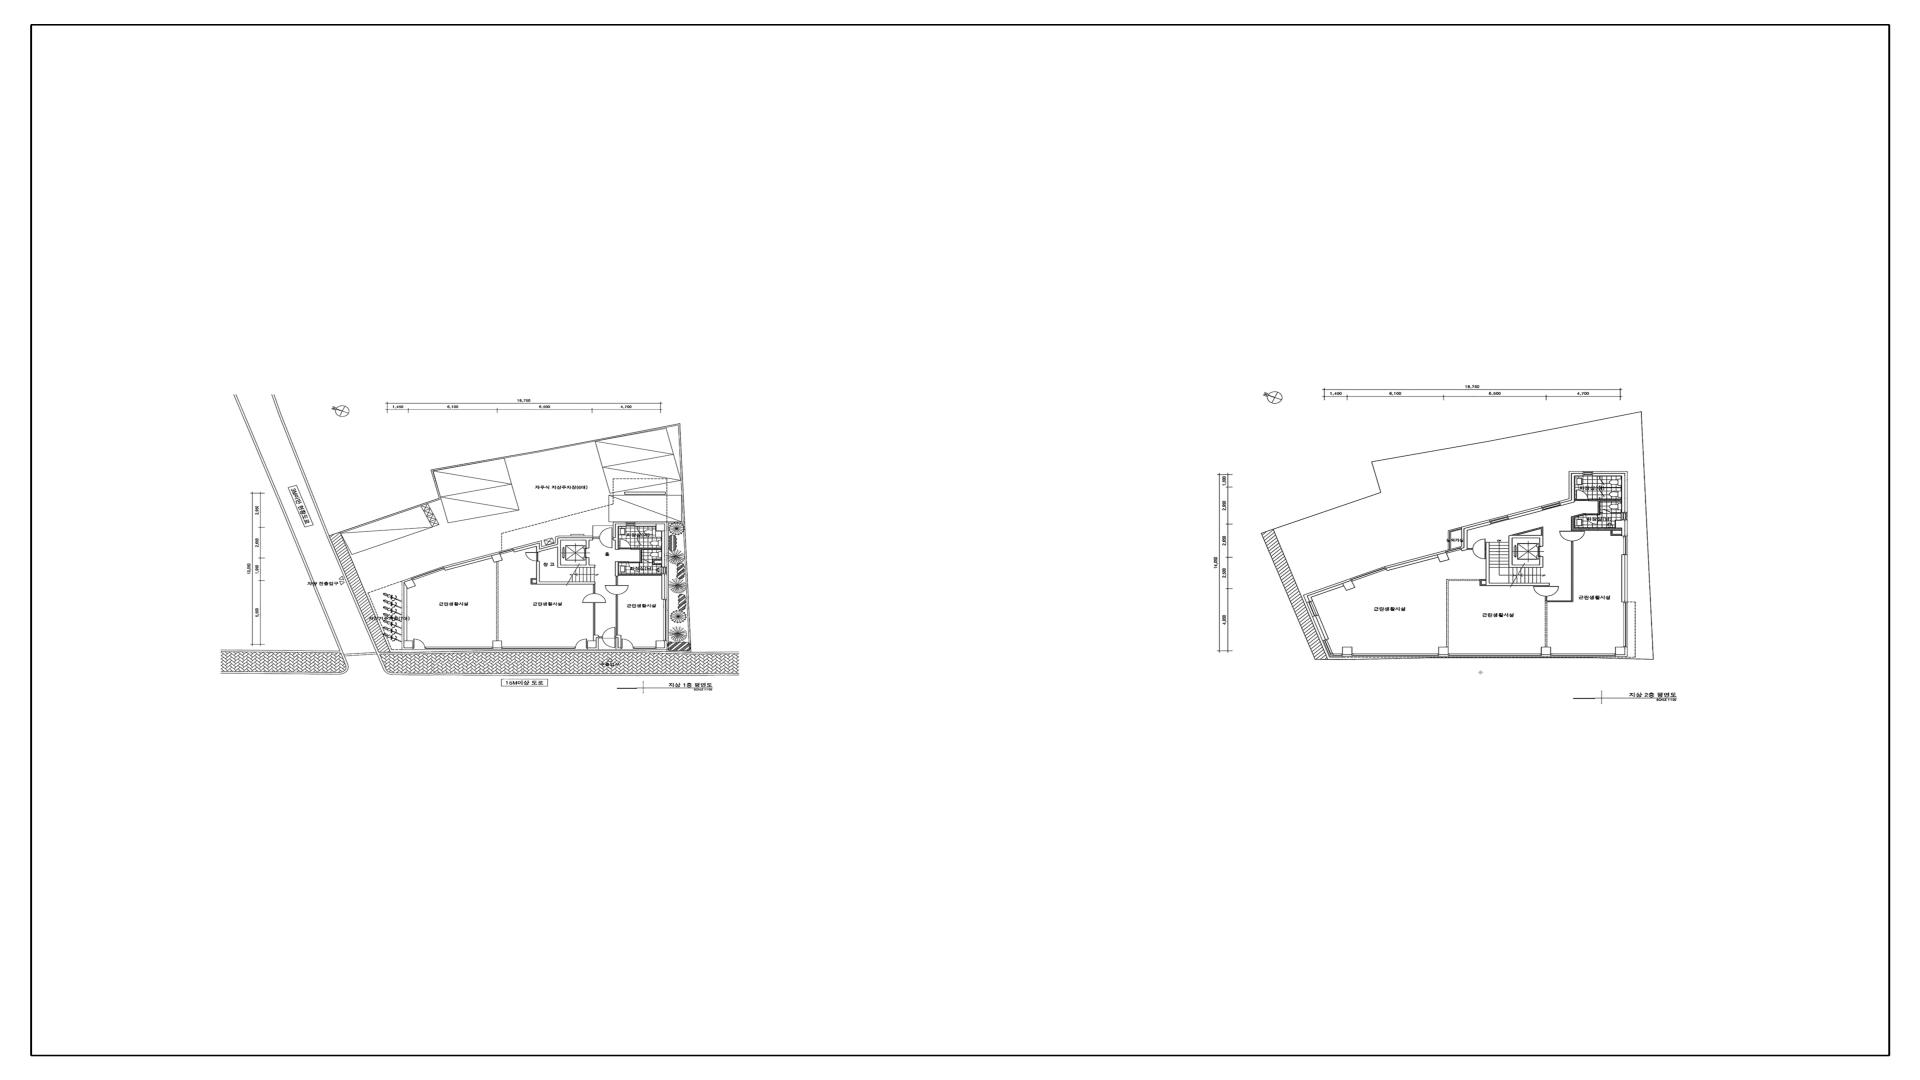door: (593, 527, 613, 548), (1467, 538, 1486, 560), (598, 627, 616, 648), (1534, 585, 1559, 600), (1560, 530, 1585, 542), (605, 584, 629, 595), (582, 593, 606, 603), (413, 638, 426, 650), (1575, 490, 1589, 501), (619, 538, 631, 550), (1586, 514, 1598, 525), (576, 638, 588, 649), (621, 639, 634, 649), (525, 552, 539, 561), (629, 561, 640, 572), (642, 559, 652, 563)
wall: (433, 423, 680, 471), (340, 498, 440, 533), (1385, 551, 1446, 568), (443, 552, 500, 568), (1306, 578, 1351, 596), (678, 423, 685, 522), (1507, 506, 1542, 517), (1313, 616, 1326, 640), (1509, 527, 1543, 536), (431, 469, 441, 499), (513, 540, 542, 550), (496, 561, 499, 640), (1462, 520, 1490, 528), (1446, 581, 1449, 647), (1486, 583, 1550, 586), (540, 543, 561, 552), (537, 582, 595, 585), (1625, 555, 1628, 602), (402, 581, 404, 648), (614, 524, 619, 549), (1486, 542, 1489, 583), (1343, 581, 1355, 591), (404, 579, 416, 589), (1572, 542, 1574, 601), (1571, 474, 1575, 502), (557, 536, 593, 539), (662, 531, 665, 567), (1622, 476, 1625, 512), (1509, 535, 1543, 538), (1509, 565, 1543, 568), (561, 565, 595, 568), (1593, 473, 1625, 476), (491, 554, 503, 562), (1575, 528, 1622, 530), (636, 522, 683, 524), (1545, 602, 1547, 647), (1438, 647, 1449, 655), (618, 574, 662, 576), (665, 524, 667, 567), (542, 543, 556, 549), (1569, 471, 1572, 499), (536, 561, 540, 582), (557, 546, 561, 567), (1625, 471, 1627, 512), (1509, 538, 1512, 565), (1541, 647, 1551, 655), (1615, 647, 1625, 655), (1342, 647, 1352, 655), (616, 595, 618, 634), (1571, 513, 1586, 518), (1616, 520, 1625, 528), (1448, 527, 1462, 532), (1588, 499, 1622, 501), (1446, 579, 1480, 581), (559, 538, 593, 540), (616, 635, 621, 648), (1559, 498, 1572, 503), (1593, 471, 1625, 473), (656, 524, 665, 531), (1461, 527, 1464, 548), (404, 641, 413, 648), (656, 641, 665, 648), (493, 641, 502, 648), (631, 548, 662, 550), (615, 561, 619, 576), (616, 638, 621, 650), (593, 604, 595, 634), (588, 641, 596, 648), (665, 574, 667, 599), (402, 578, 412, 583), (613, 522, 616, 538), (1547, 600, 1571, 602), (1303, 594, 1309, 602), (1625, 520, 1628, 536), (636, 524, 656, 526), (536, 543, 540, 553), (1572, 517, 1575, 530), (656, 531, 662, 537), (1448, 531, 1450, 549), (1572, 471, 1583, 474), (586, 540, 590, 548), (593, 635, 598, 641), (596, 638, 599, 648), (1625, 647, 1628, 657), (640, 549, 642, 563), (1598, 501, 1600, 515), (586, 558, 590, 565), (1540, 556, 1543, 565), (1540, 538, 1543, 546), (1575, 473, 1583, 476), (1622, 528, 1625, 536), (593, 585, 596, 593), (588, 648, 599, 650), (618, 561, 629, 563), (616, 522, 626, 524), (1342, 655, 1352, 657), (656, 648, 665, 650), (493, 648, 502, 650), (556, 536, 558, 545), (1616, 655, 1625, 657), (1613, 534, 1622, 536), (653, 563, 662, 565), (616, 576, 618, 585), (558, 538, 561, 544), (665, 641, 667, 649), (618, 524, 626, 526), (1541, 527, 1543, 535), (540, 542, 542, 549), (655, 561, 662, 563), (1480, 579, 1482, 586), (532, 580, 536, 583), (531, 578, 537, 580), (402, 648, 413, 649), (1611, 531, 1613, 536), (1438, 655, 1448, 656), (1541, 655, 1551, 656), (683, 522, 685, 527), (1482, 579, 1486, 581), (1482, 584, 1486, 586), (653, 559, 655, 563), (655, 559, 662, 560), (532, 583, 537, 584), (1545, 600, 1547, 602), (531, 580, 532, 584), (1572, 601, 1573, 602)
window: (1350, 566, 1386, 582), (411, 566, 445, 580), (1448, 653, 1541, 657), (1352, 653, 1438, 657), (1323, 639, 1342, 657), (1551, 653, 1616, 657), (1307, 601, 1319, 617), (1541, 501, 1562, 510), (1624, 602, 1628, 647), (1489, 515, 1509, 524), (663, 599, 667, 641), (502, 647, 575, 649), (1445, 546, 1462, 554), (425, 647, 493, 649), (499, 548, 514, 554), (1624, 536, 1628, 555), (1621, 512, 1628, 520), (1583, 471, 1593, 476), (634, 647, 656, 649), (626, 522, 636, 526), (662, 567, 667, 574)
